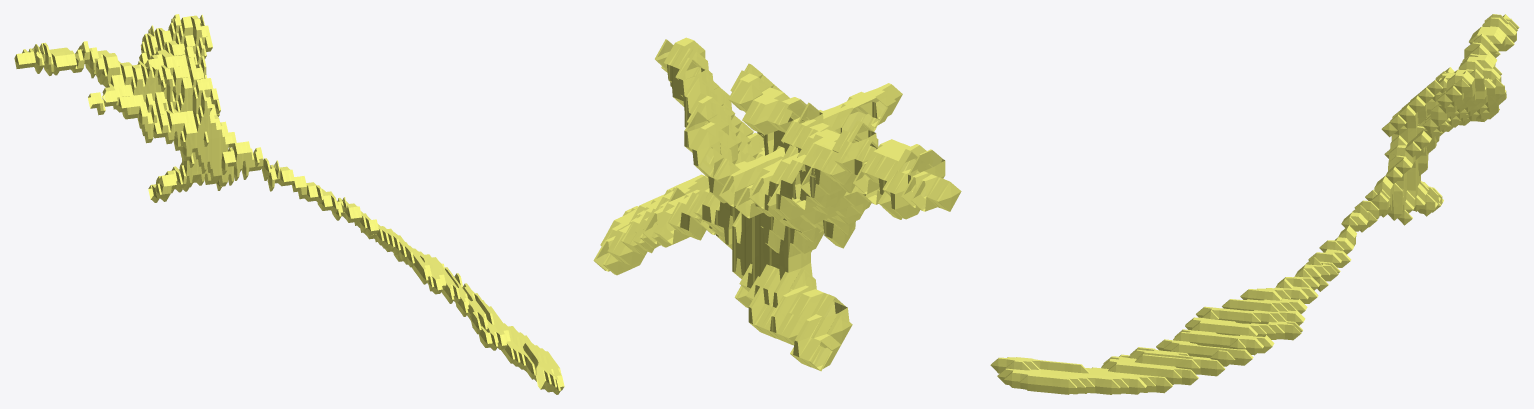
The model's file is SVV_BWM-VL08.gltf.
3 renders of one model, left to right at view 1: azimuth 30°, elevation 25°; view 2: azimuth 150°, elevation 25°; view 3: azimuth 270°, elevation 25°, orthographic. The views are drawn at different scales.
Visible parts, largest first — view 1: BWM-VL08; view 2: BWM-VL08; view 3: BWM-VL08.
Part boxes in pixels (x1=…): BWM-VL08: x1=14, y1=14, x2=564, y2=394; BWM-VL08: x1=593, y1=37, x2=961, y2=371; BWM-VL08: x1=990, y1=14, x2=1519, y2=394.
Bounding box in the file's own units: 28609 × 21102 × 41534.
